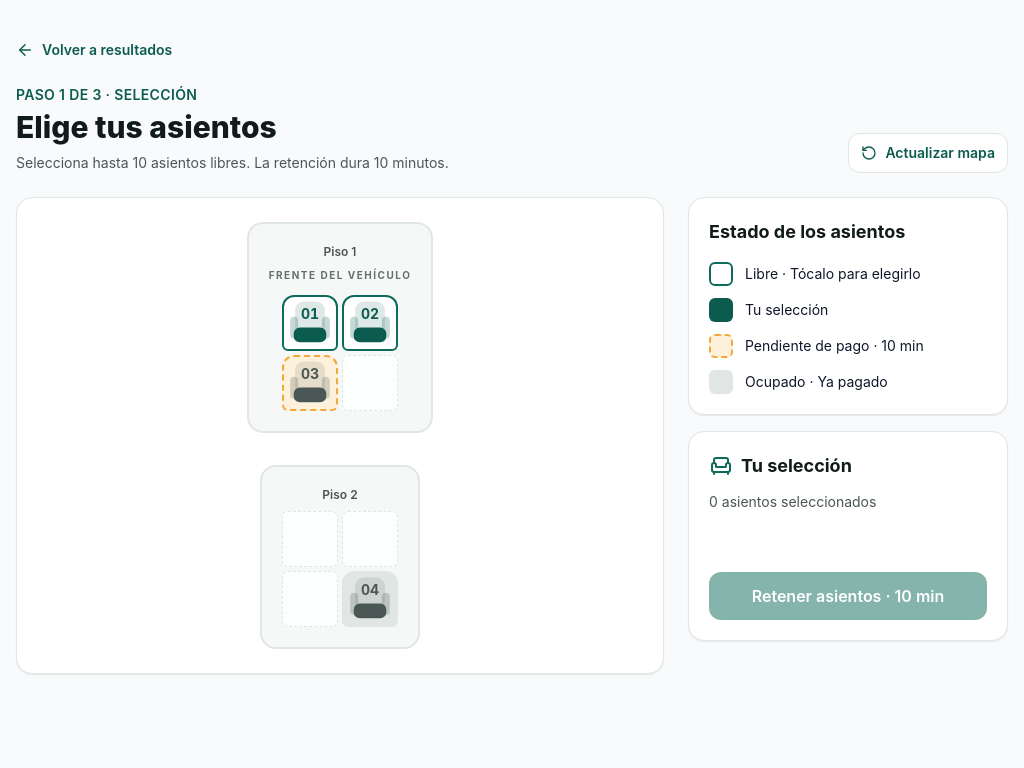
Test: seat selection page › refreshes after a 409 conflict and displays the API problem
Click the button named "Asiento 1, Libre". click: (310, 323)
box: [282,295,338,351]
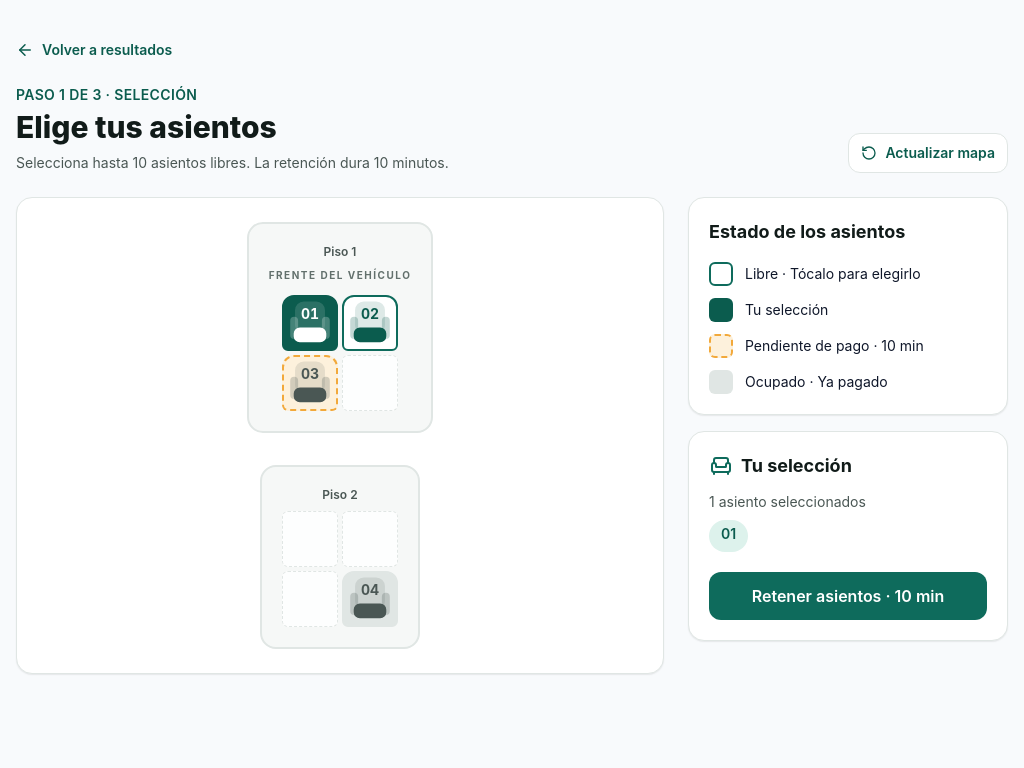
Click the button "Retener asientos · 10 min". click: (848, 596)
box: [709,572,987,620]
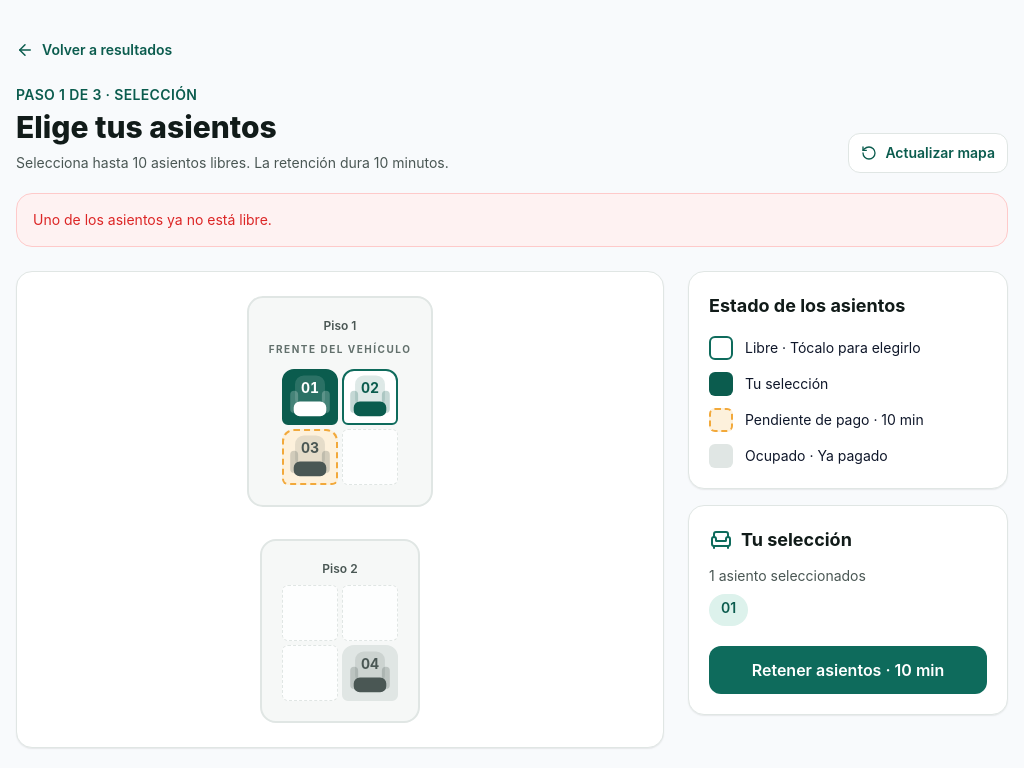
Expected: the message reads "Uno de los asientos ya no está libre.", [33,211,272,228]
